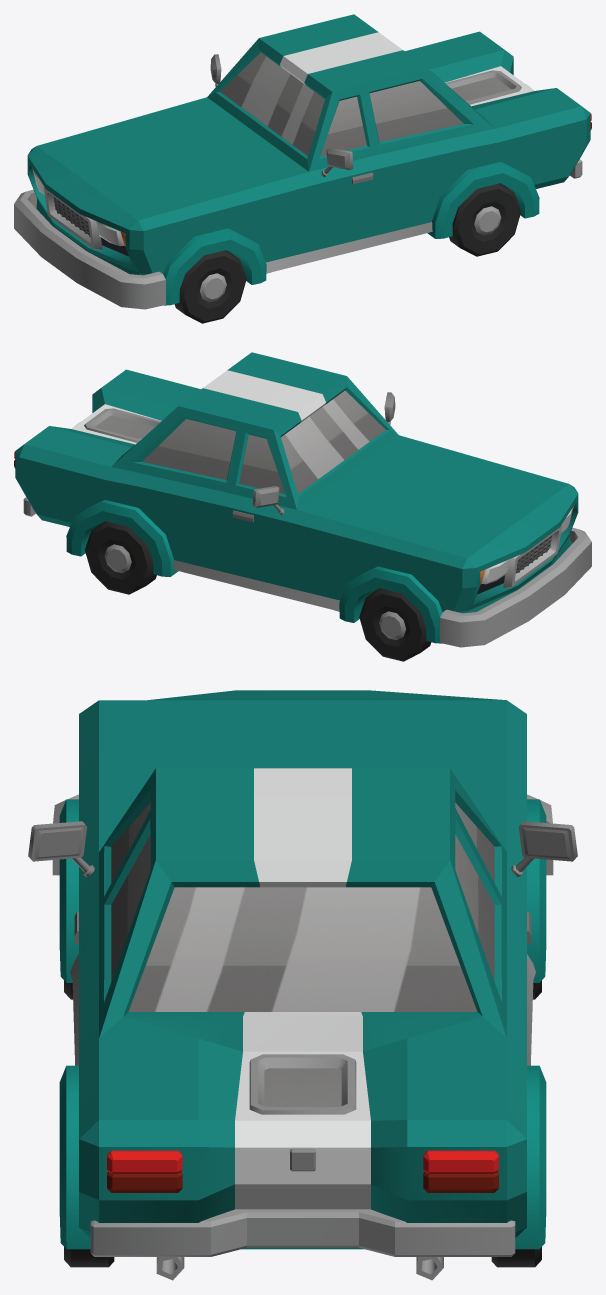
Rendered from Car_18_Z.gltf.
3 views of the same model, one above another, from view 1: azimuth 30°, elevation 25°; view 2: azimuth 150°, elevation 25°; view 3: azimuth 270°, elevation 25° (orthographic). The views are drawn at different scales.
Visible parts, largest first — view 1: Car_18_Z, RL, FL; view 2: Car_18_Z, RR, FR; view 3: Car_18_Z.
Part boxes in pixels (box(x1,y1,x2,y2)): Car_18_Z: box(14, 14, 591, 309); RL: box(449, 183, 520, 256); FL: box(174, 250, 246, 323); Car_18_Z: box(14, 352, 591, 647); RR: box(85, 521, 156, 594); FR: box(359, 588, 431, 661); Car_18_Z: box(28, 690, 577, 1280).
Size of the model in its own units: 3.78 by 1.34 by 1.85.
3 materials, 3 textured.
